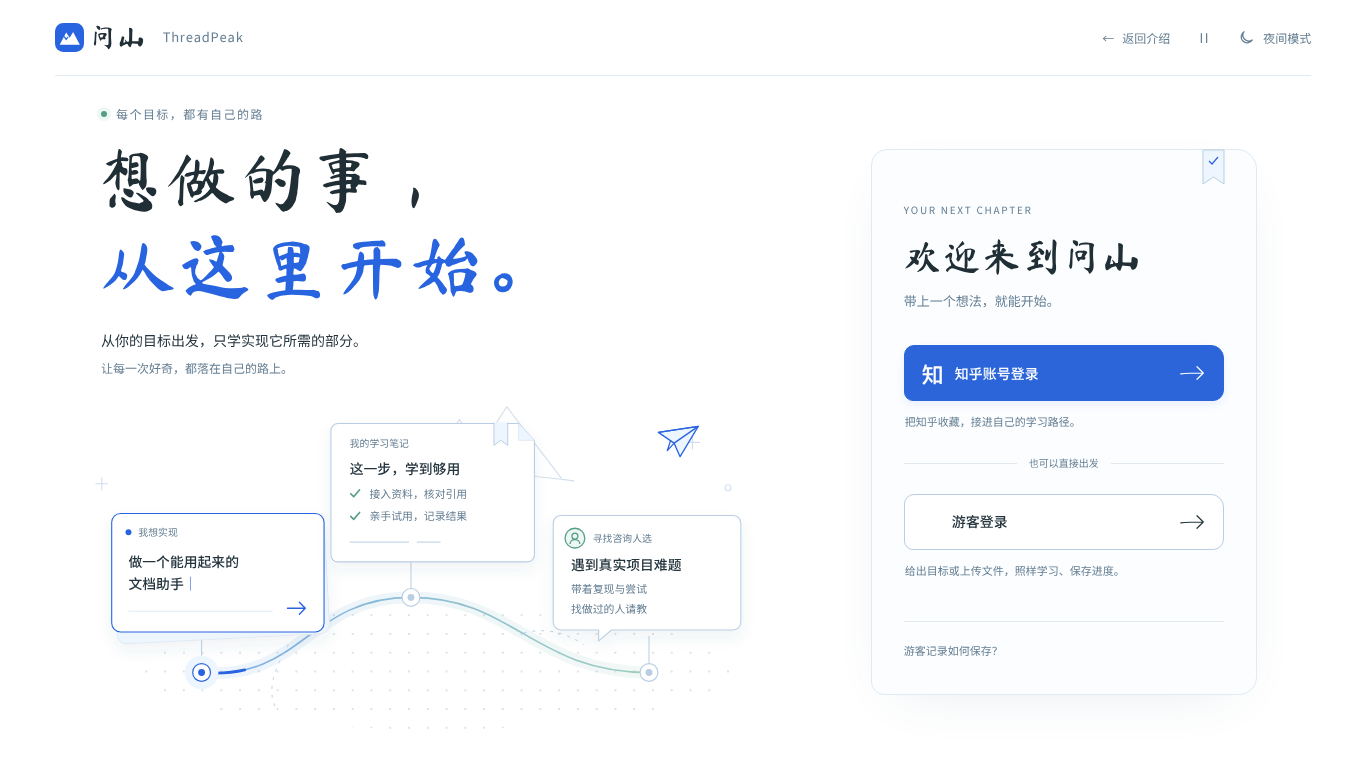
Test: login makes both choices explicit, disables repeat submissions, and allows retry after failure
Step 1. Click the button "游客登录" → (980, 521), box [904, 494, 1224, 550]
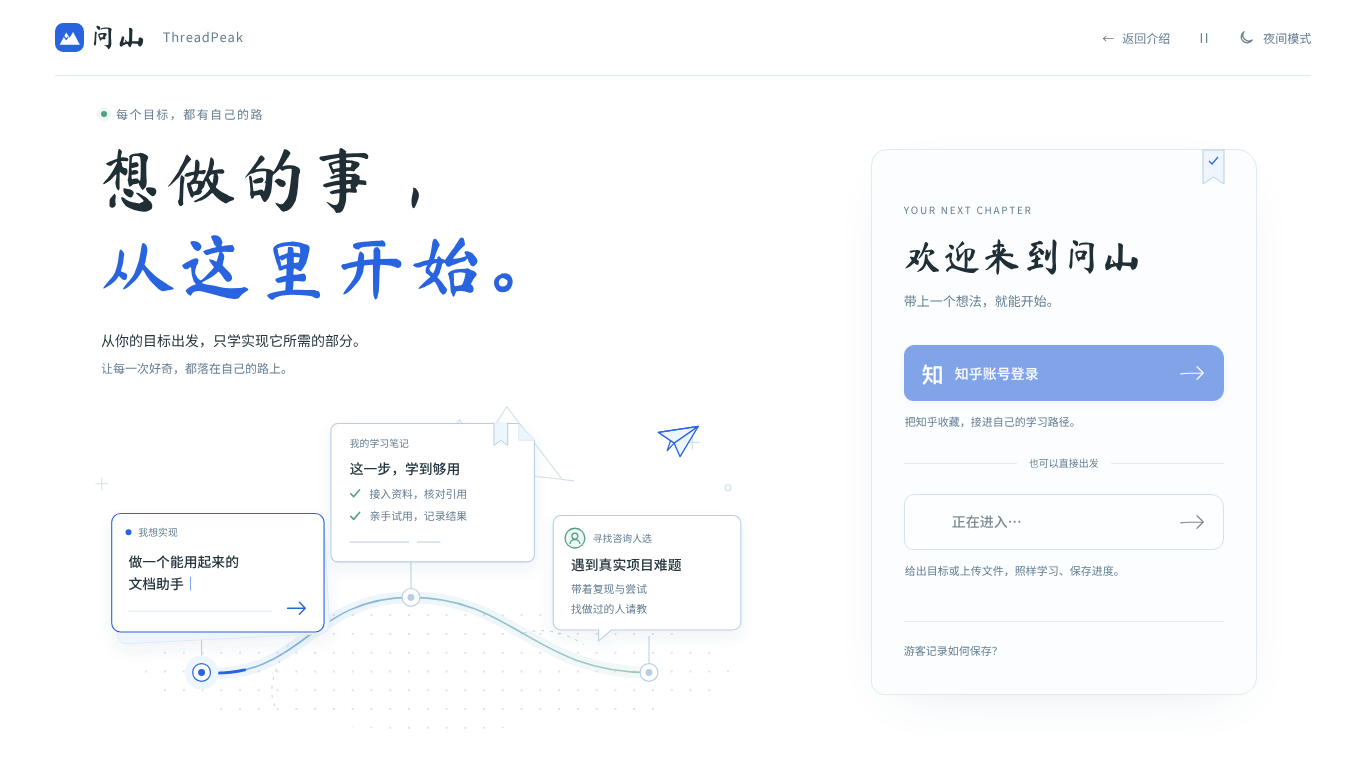
Check: the button "正在进入…" is disabled
Check: the button "知 知乎账号登录" is disabled, box [904, 345, 1224, 401]
Step 2. Click the button "正在进入…" → (987, 521), box [904, 494, 1224, 550]
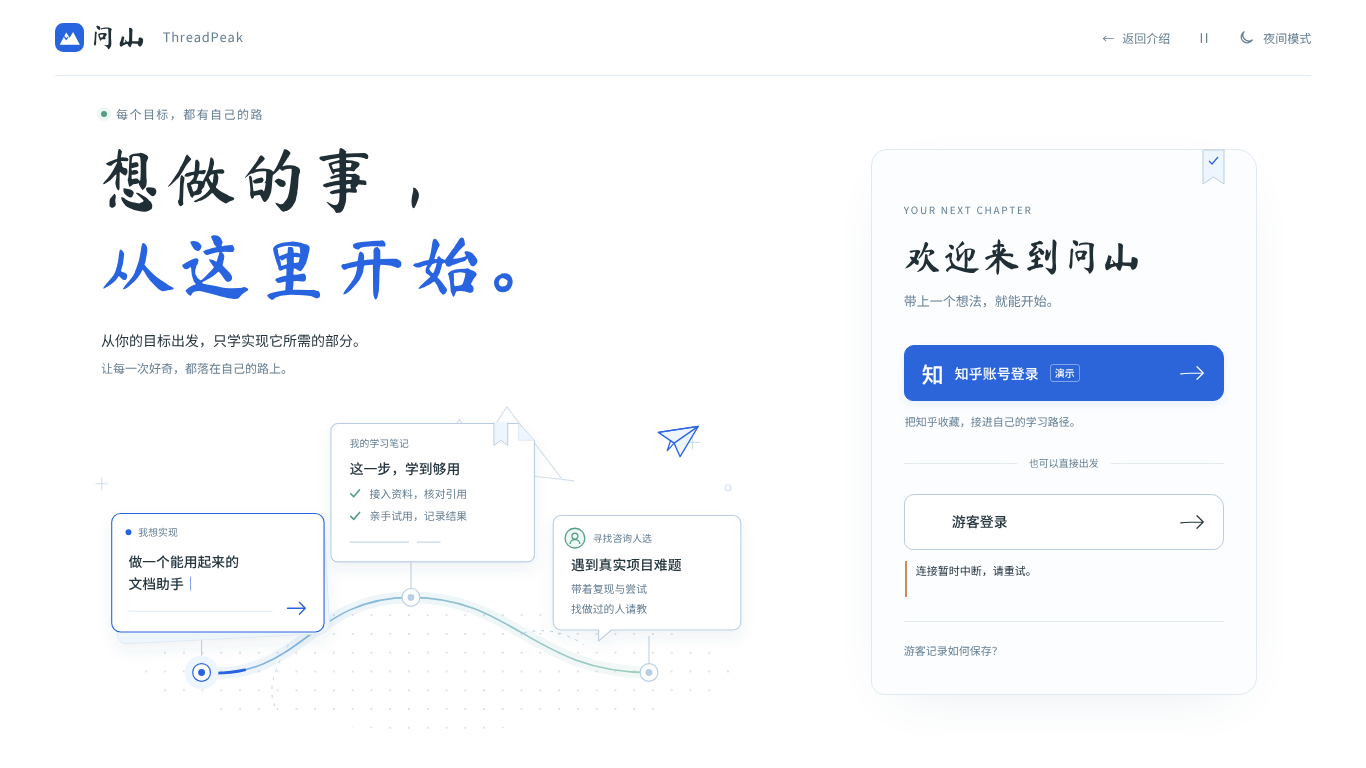
Check: the button "游客登录" is enabled, box [904, 494, 1224, 550]
Check: the text "连接暂时中断，请重试。" is shown, box [905, 561, 1223, 597]
